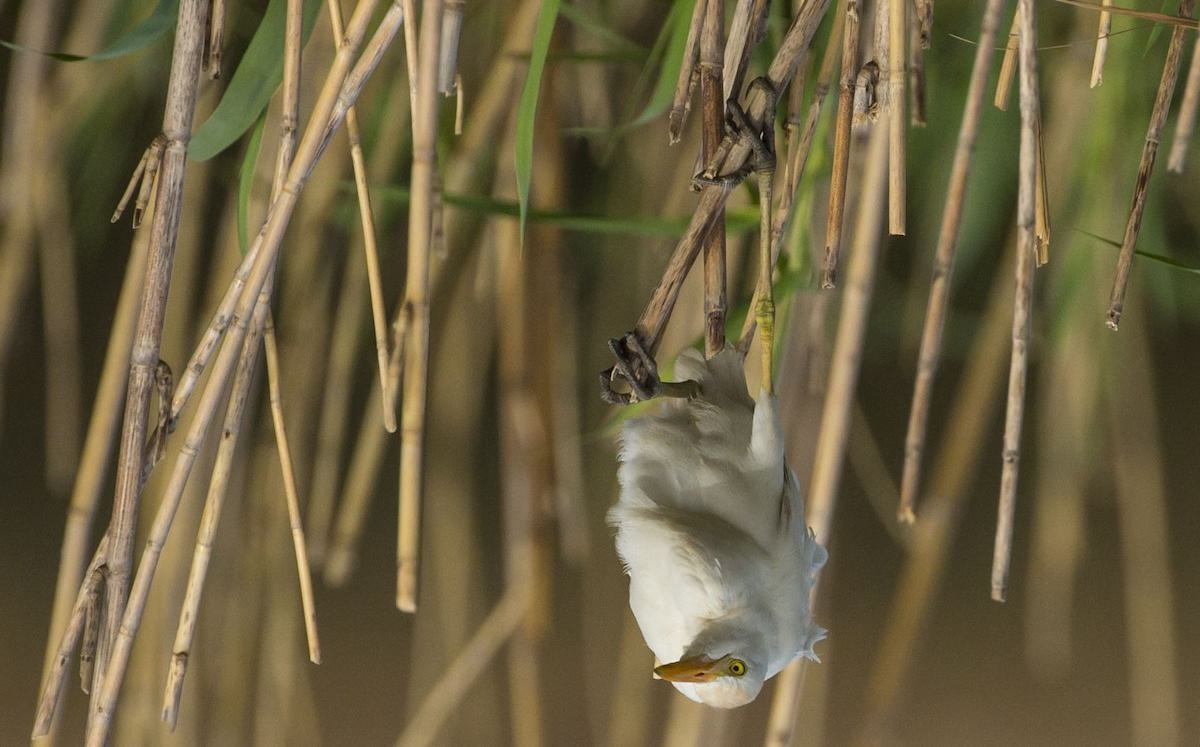egret: (611, 283, 819, 710)
